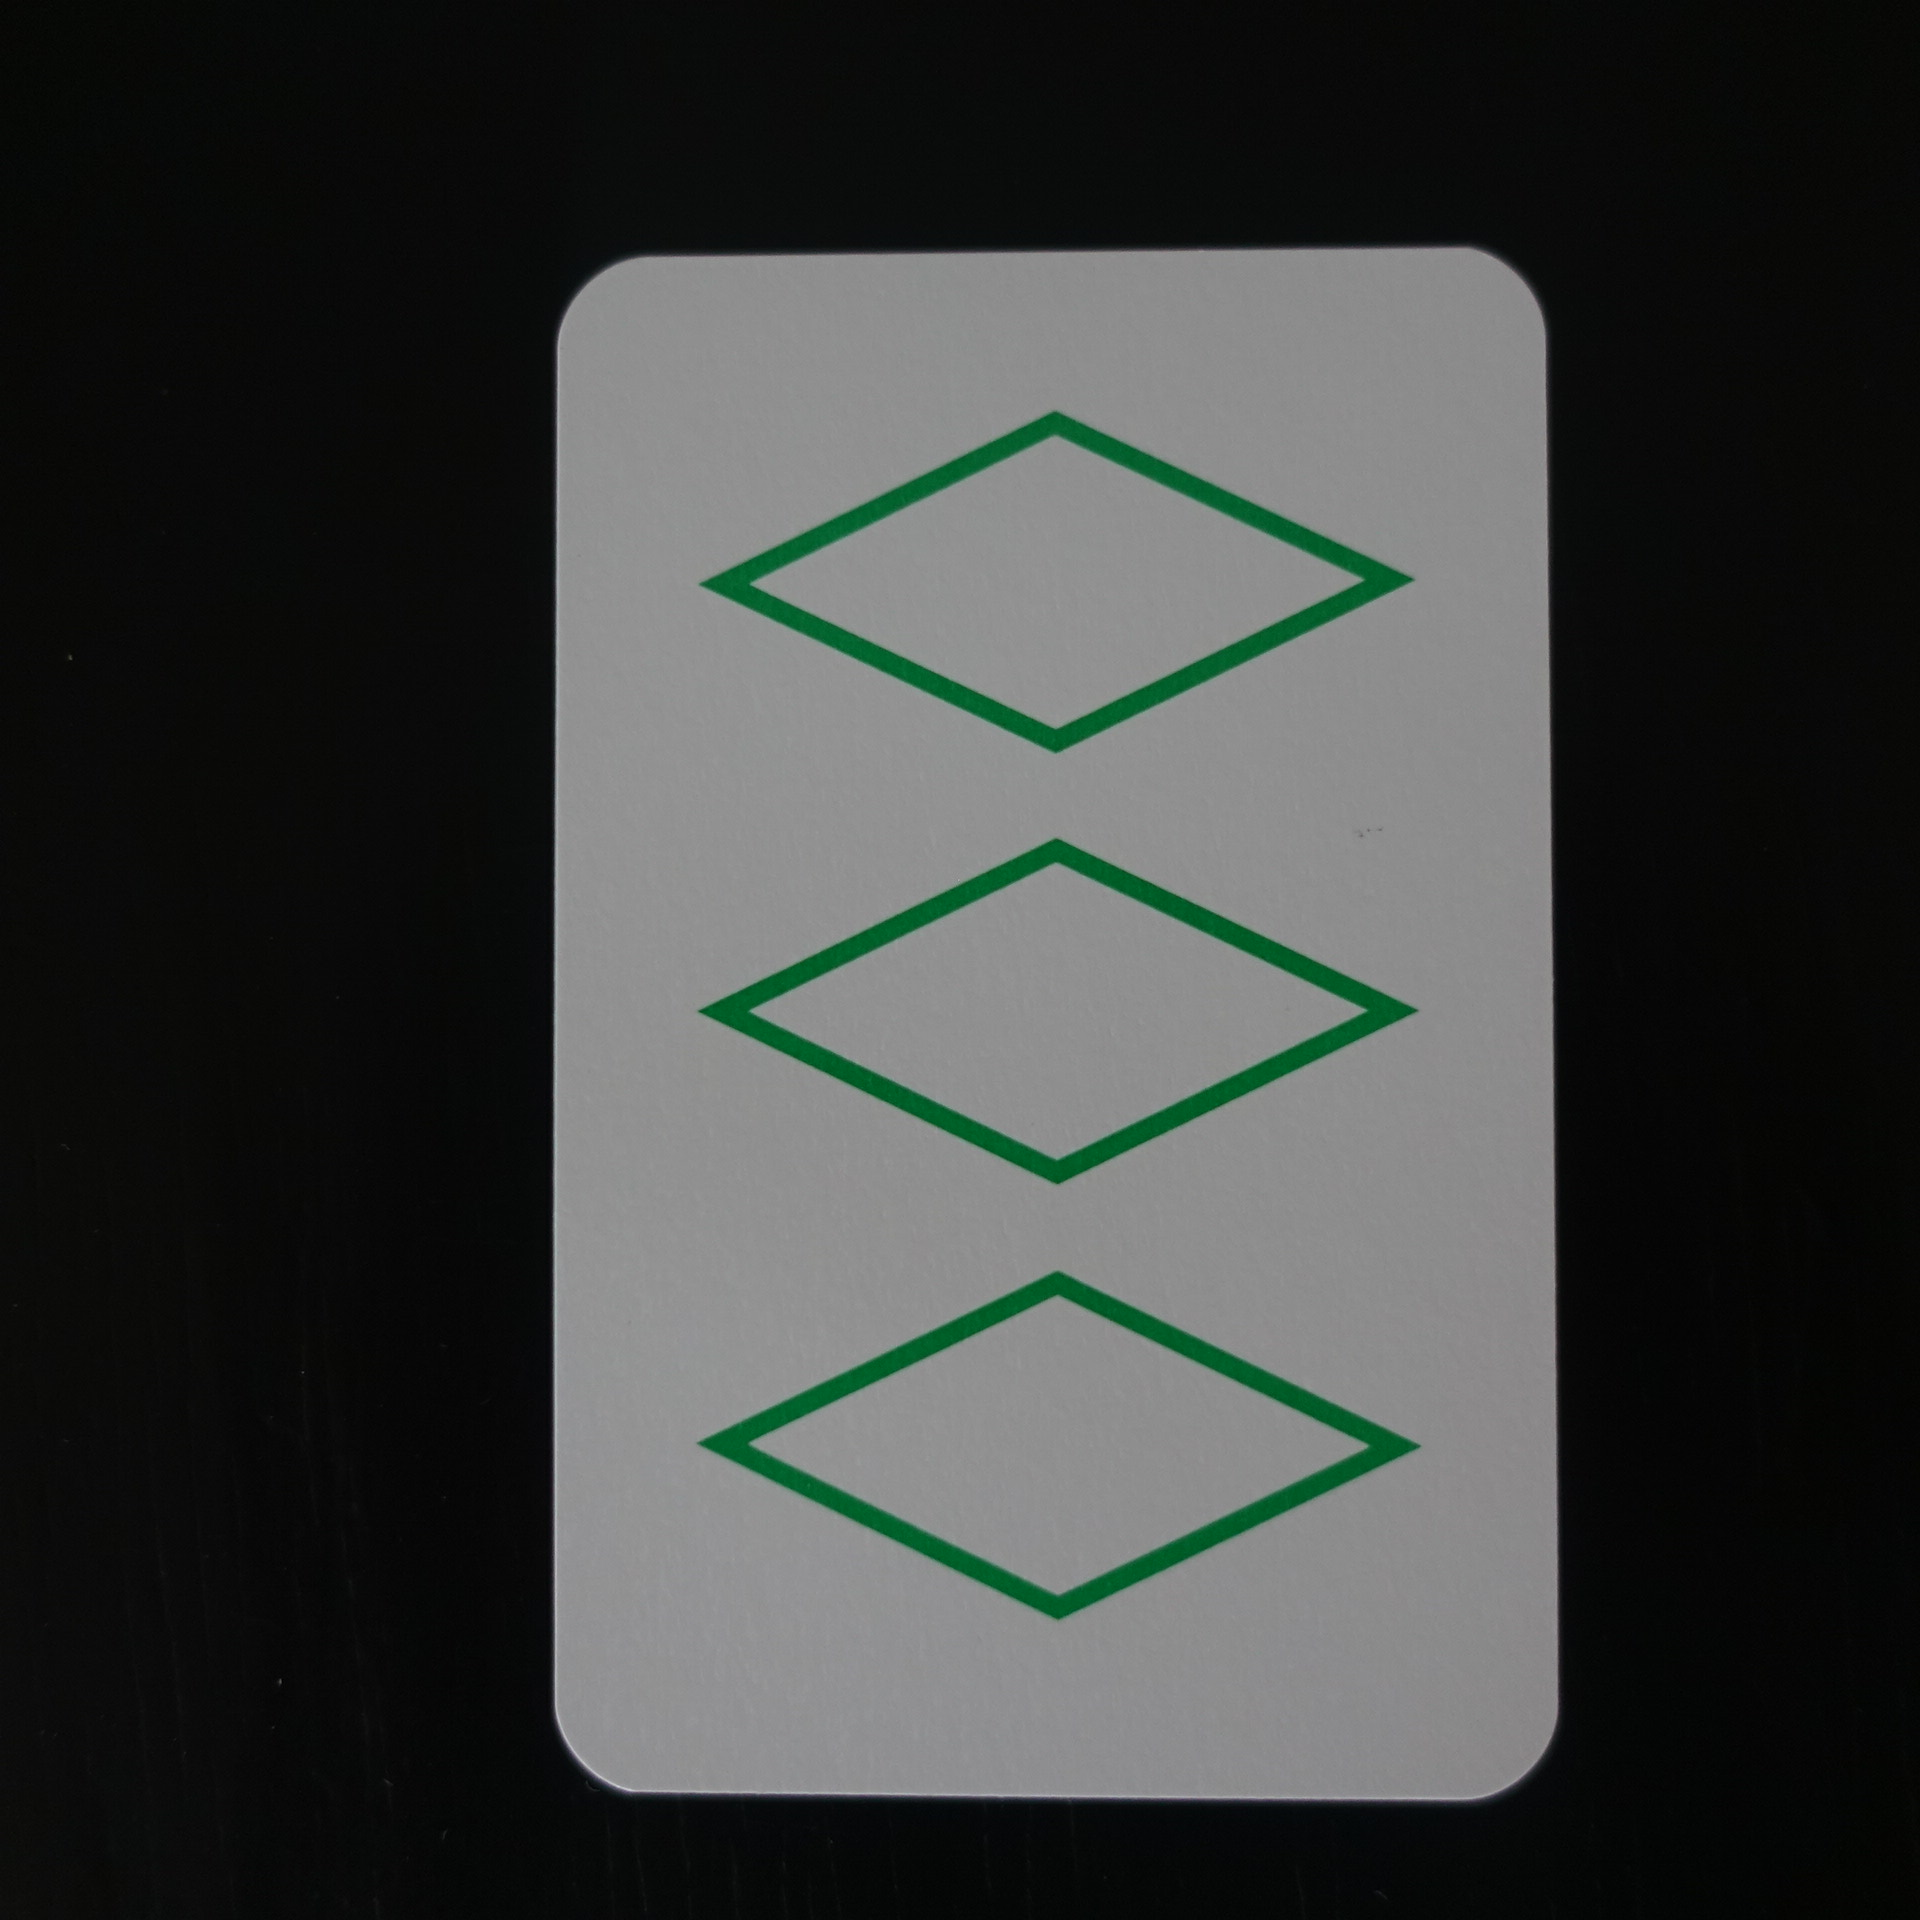c-2-f-d-r: (513, 223, 1589, 1823)
